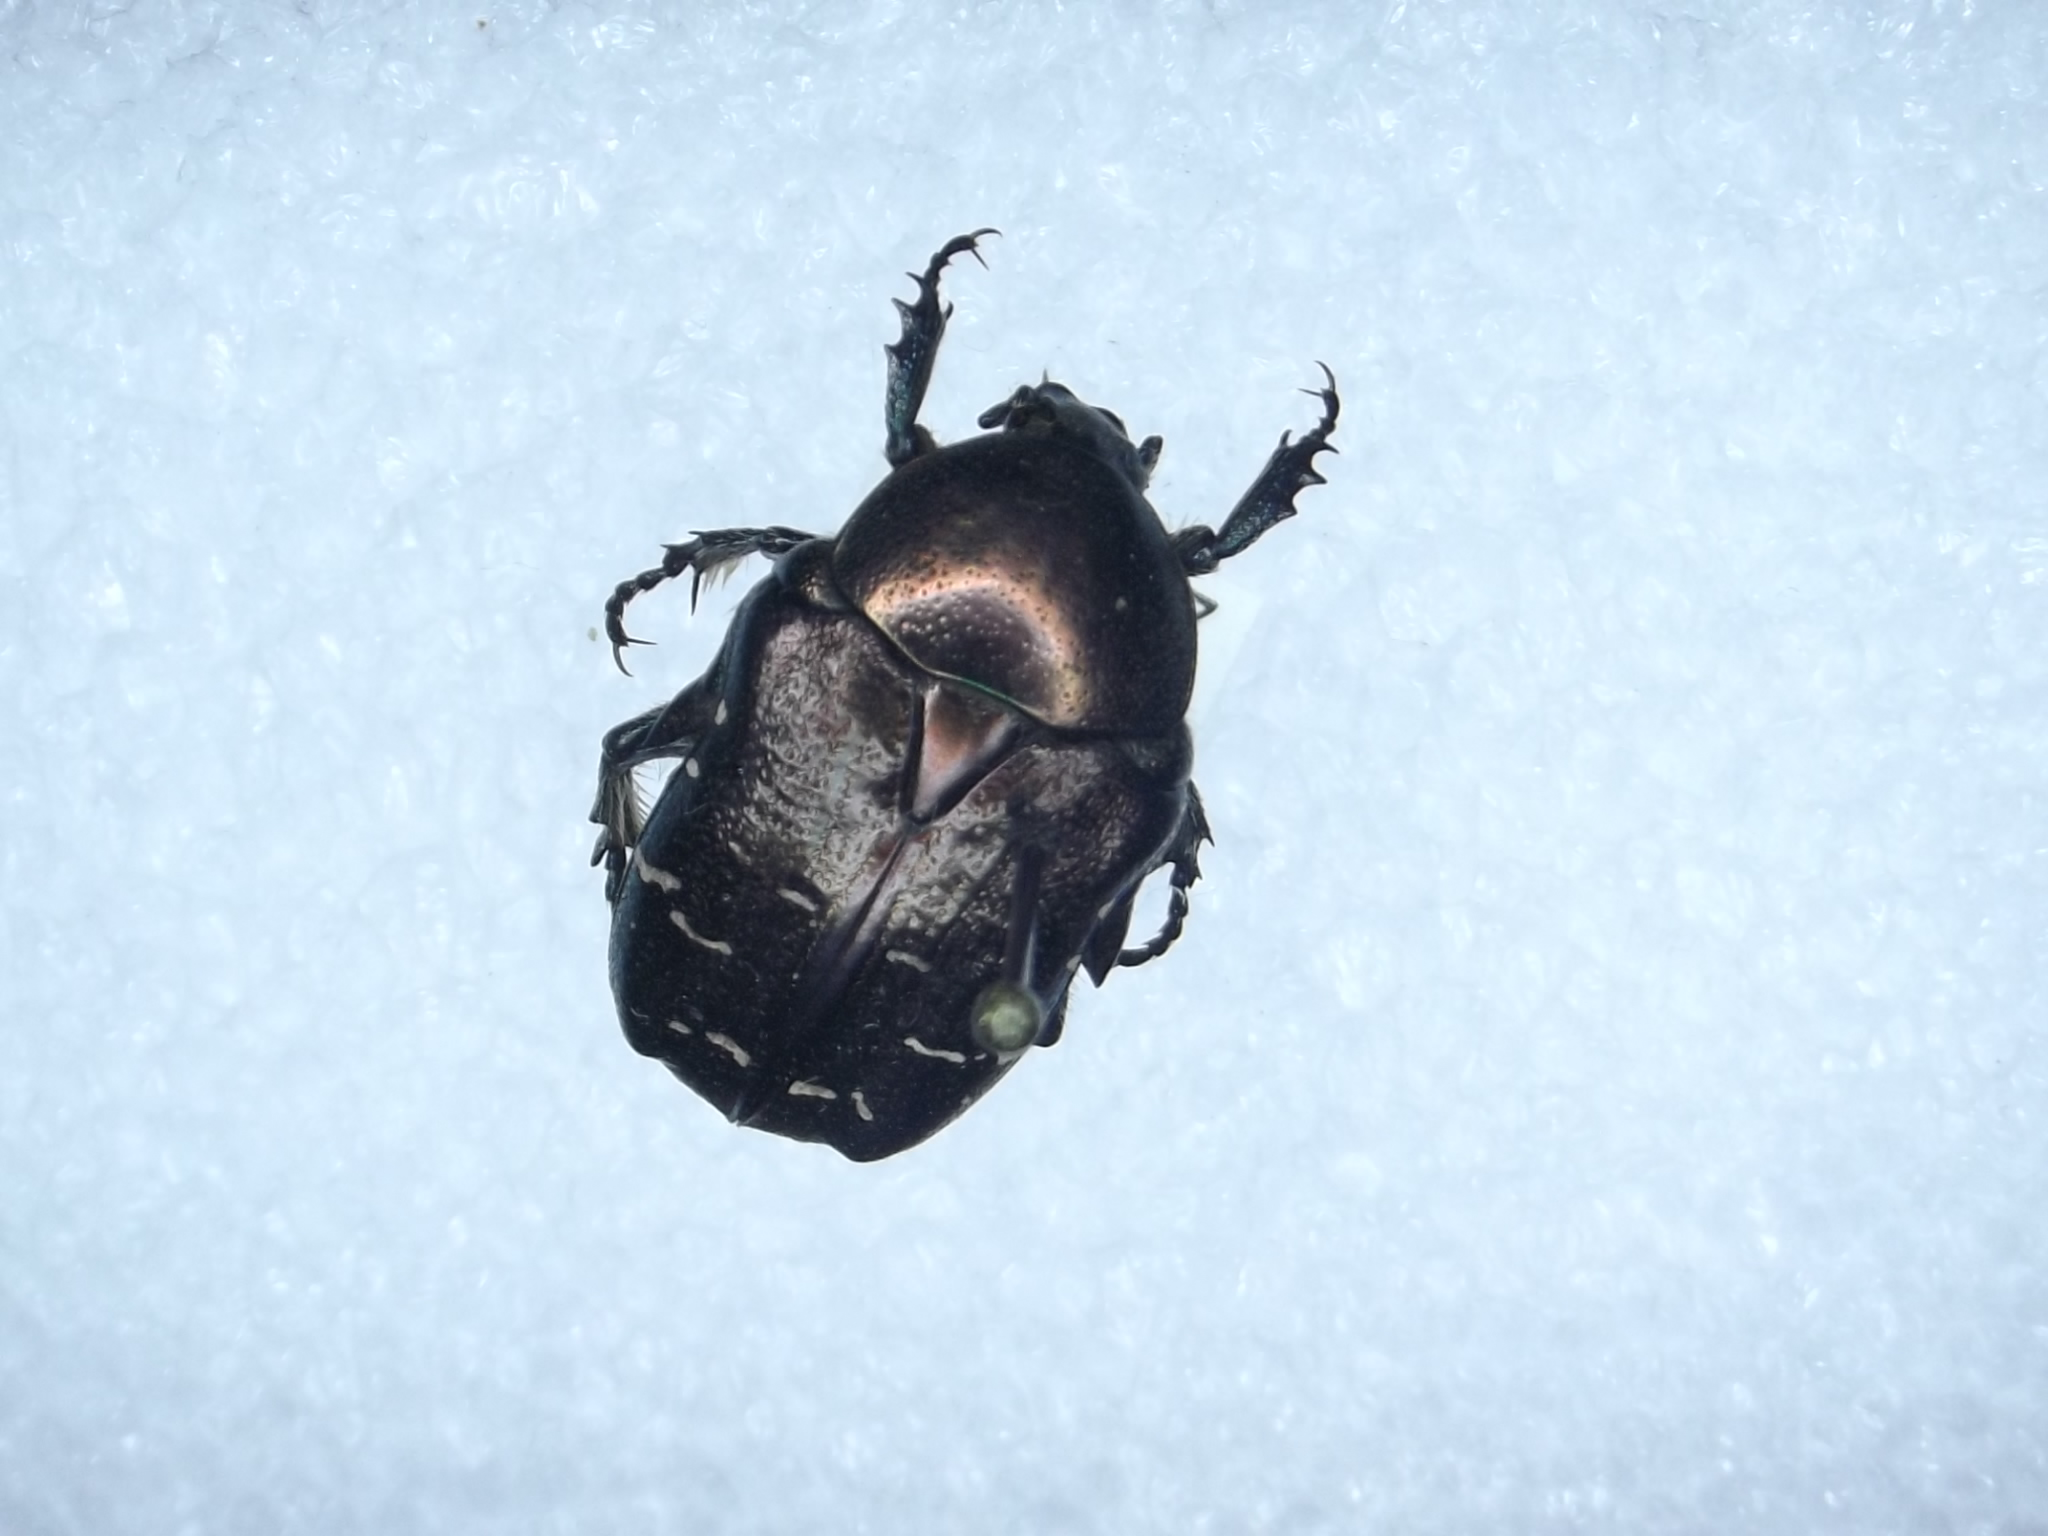Cetonia_aurata: (564, 213, 1348, 1191)
